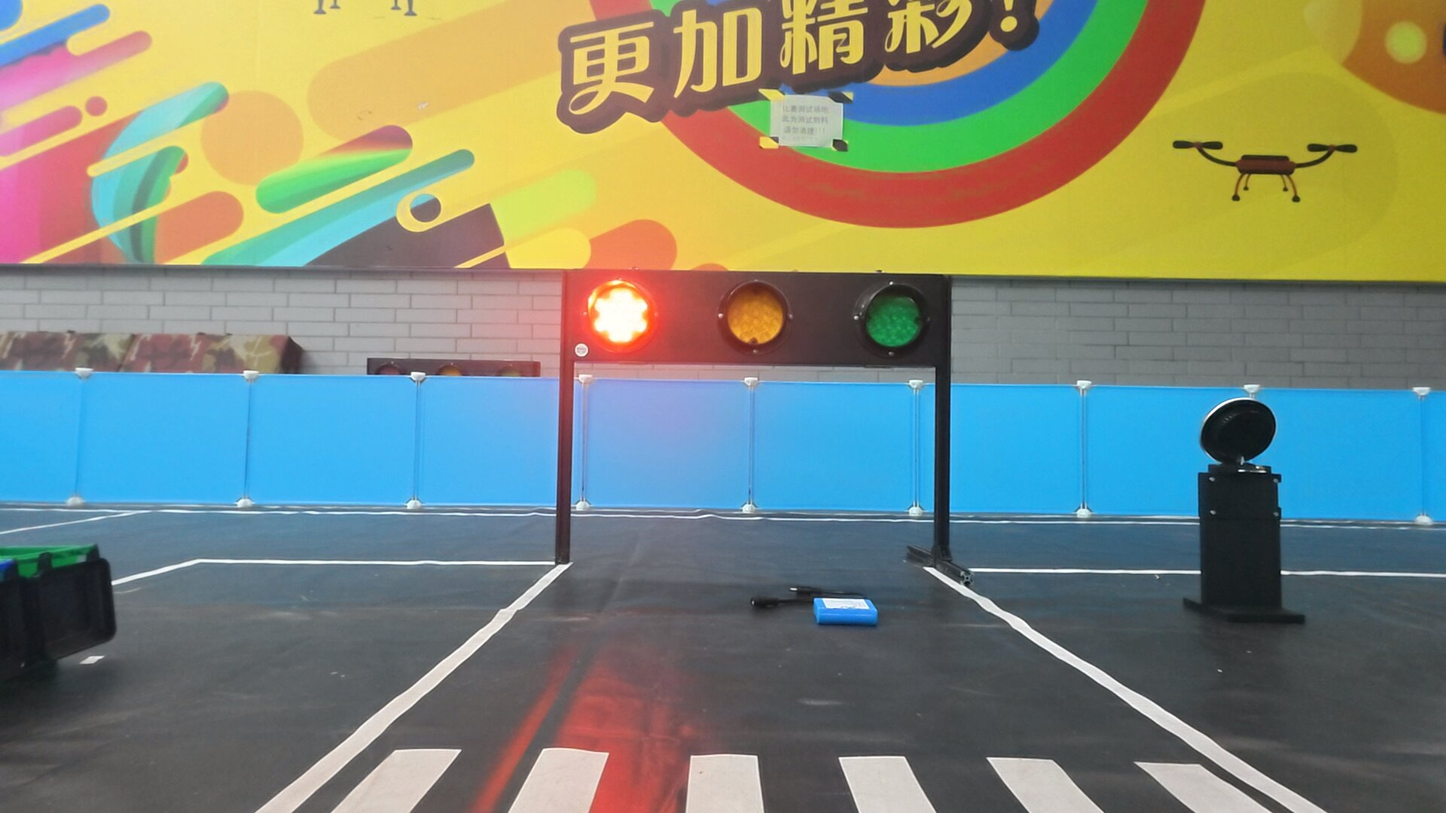stop: (582, 276, 657, 352)
